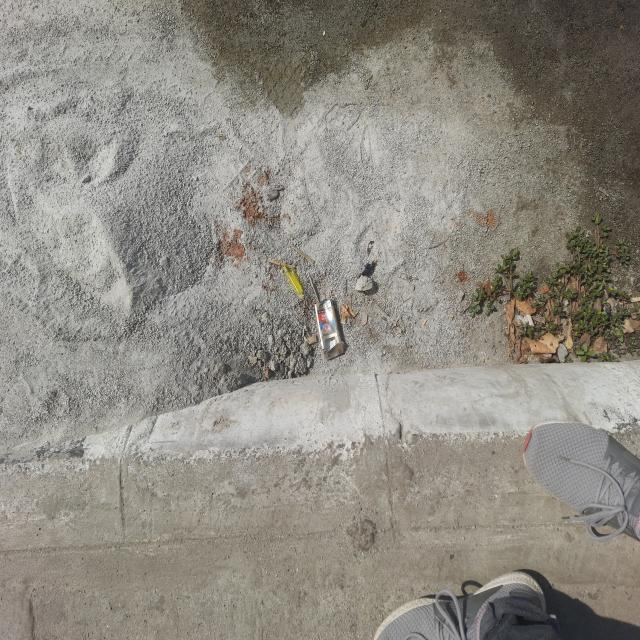Background: (0, 2, 640, 638)
Cig_pack: (315, 300, 345, 360)
Plastic: (282, 266, 304, 298), (526, 203, 529, 208), (430, 228, 431, 230)
